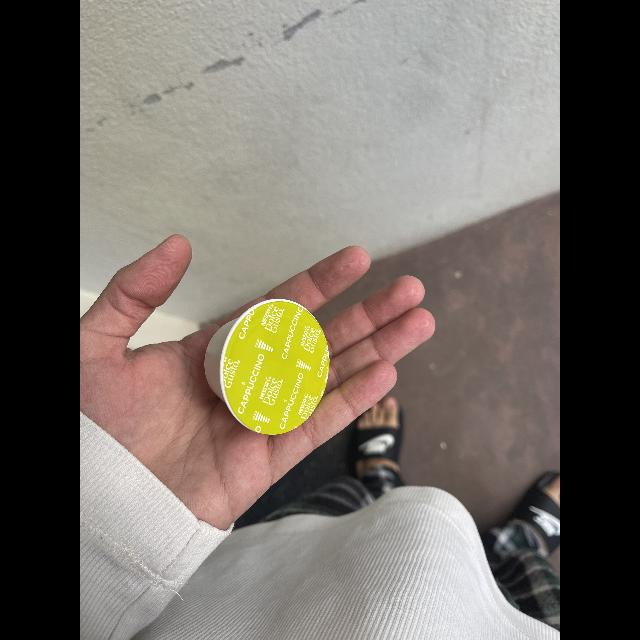intact_capsule: (198, 290, 332, 438)
